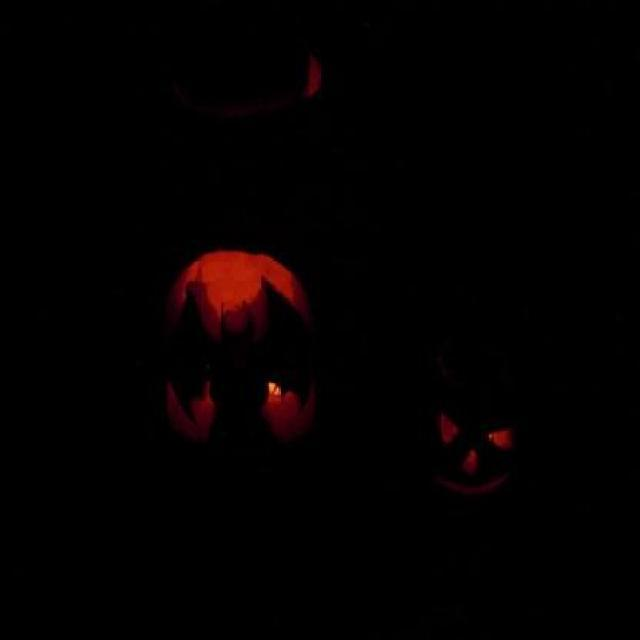Pumpkin: (157, 244, 323, 461), (422, 356, 530, 510)
